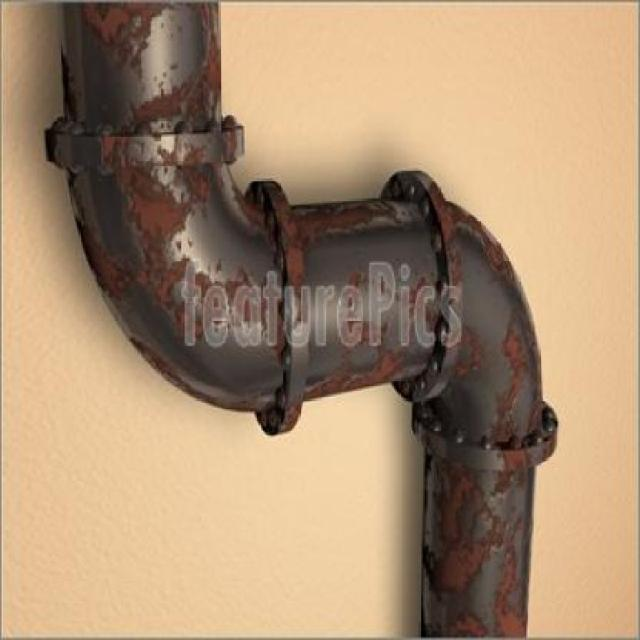corrosion: (47, 0, 561, 640)
